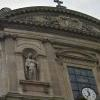Statue: (18, 42, 45, 88)
